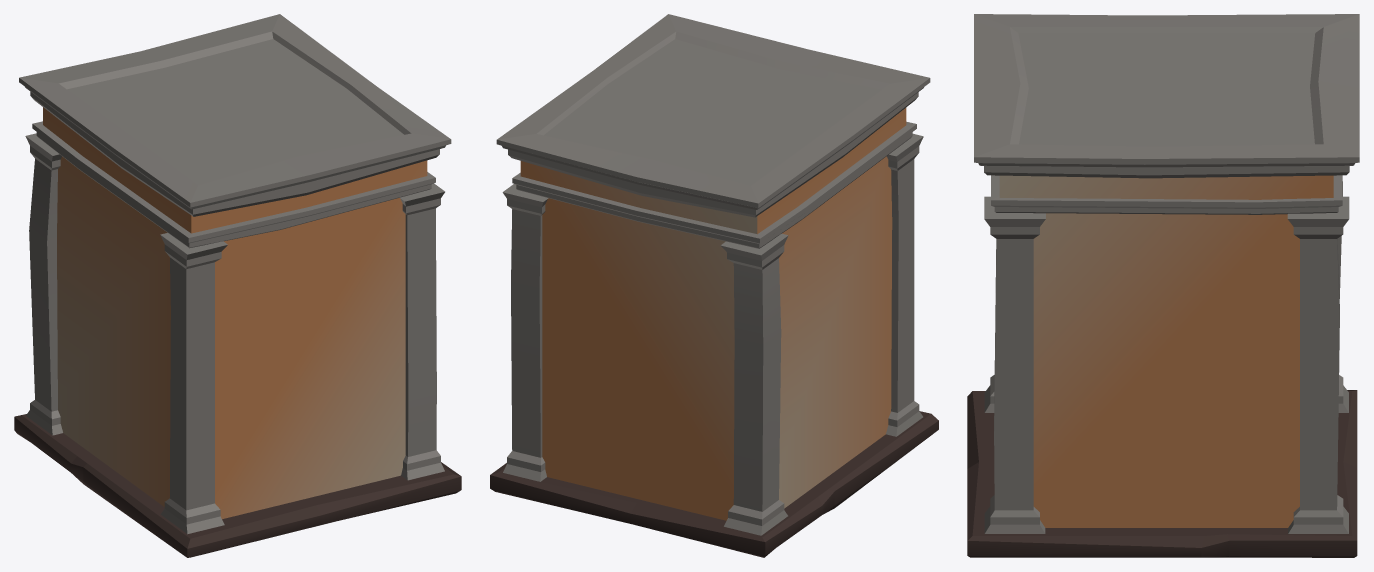
Rendered from SM_Bld_Cuba_Hall_Room_03.glb.
The picture shows the model from 3 angles, left to right: view 1: azimuth 30°, elevation 25°; view 2: azimuth 150°, elevation 25°; view 3: azimuth 270°, elevation 25°; orthographic projection. The views are drawn at different scales.
Parts seen in each view (by area): view 1: SM_Bld_Cuba_Hall_Room_03; view 2: SM_Bld_Cuba_Hall_Room_03; view 3: SM_Bld_Cuba_Hall_Room_03.
Boxes of the visible parts, left/top/right/bottom form: SM_Bld_Cuba_Hall_Room_03: left=14, top=14, right=461, bottom=557; SM_Bld_Cuba_Hall_Room_03: left=490, top=14, right=938, bottom=557; SM_Bld_Cuba_Hall_Room_03: left=967, top=14, right=1359, bottom=557.
Bounding box in the file's own units: 0.0359 × 0.0442 × 0.0394.
